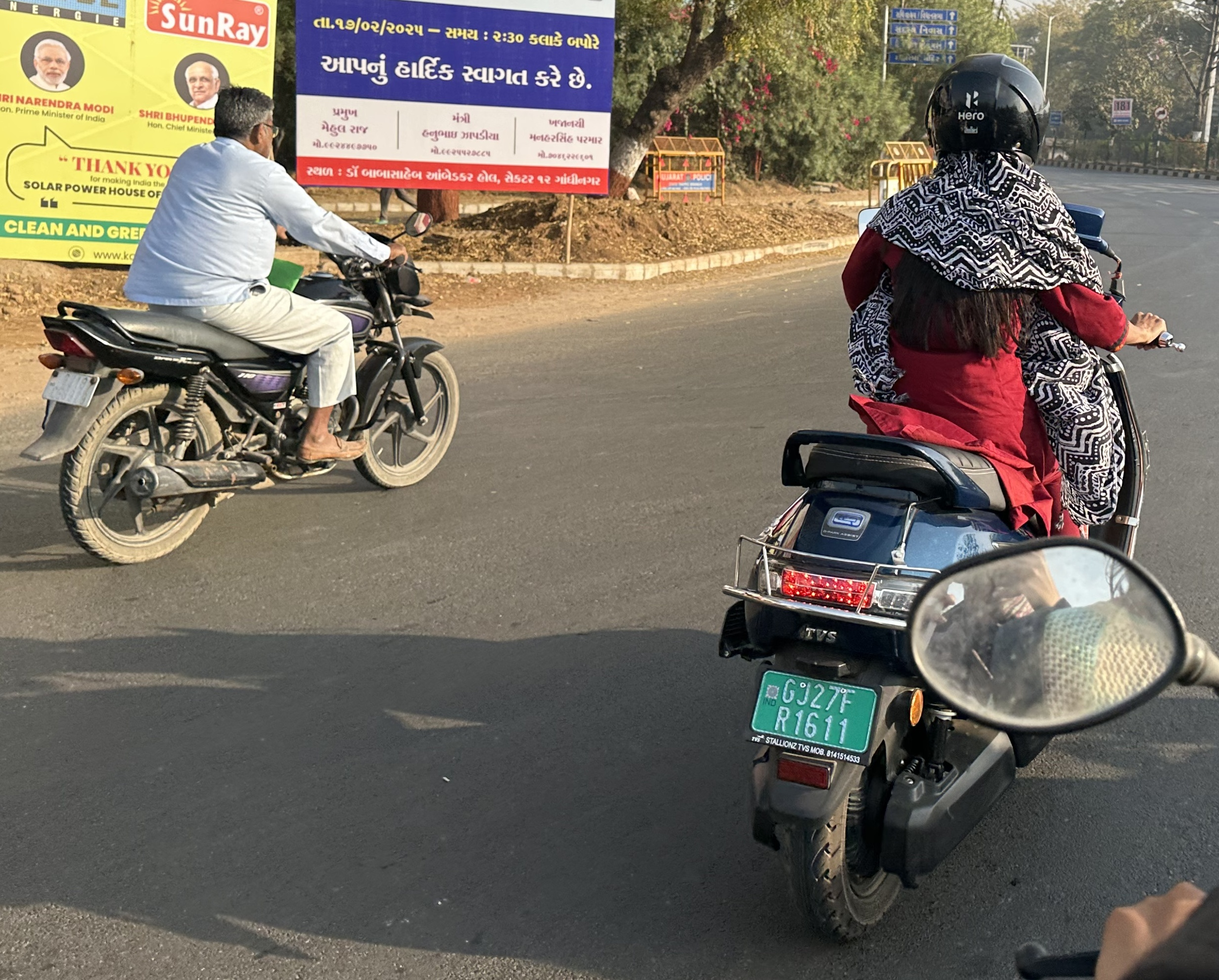BikeWithRider: (702, 42, 1199, 954), (12, 77, 475, 576)
Helmet: (910, 42, 1060, 185)
NoHelmet: (199, 79, 291, 169)
